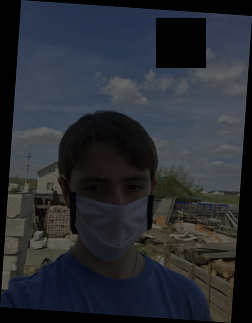with_mask: (66, 159, 154, 263)
